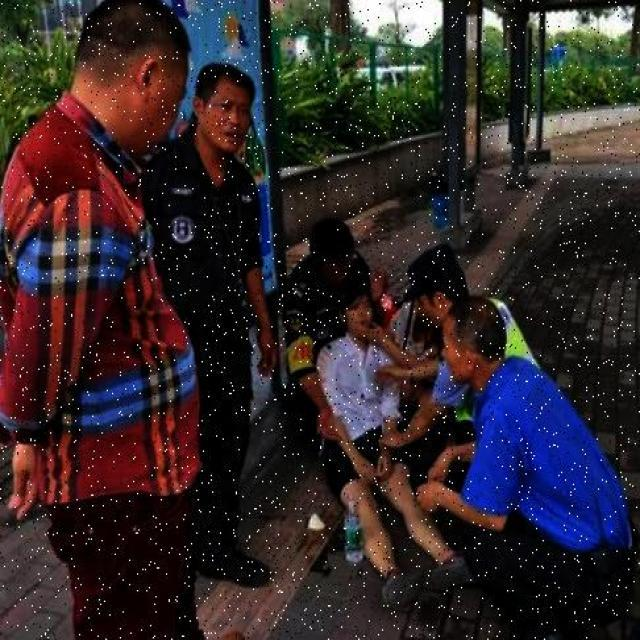fall: (328, 296, 420, 581)
